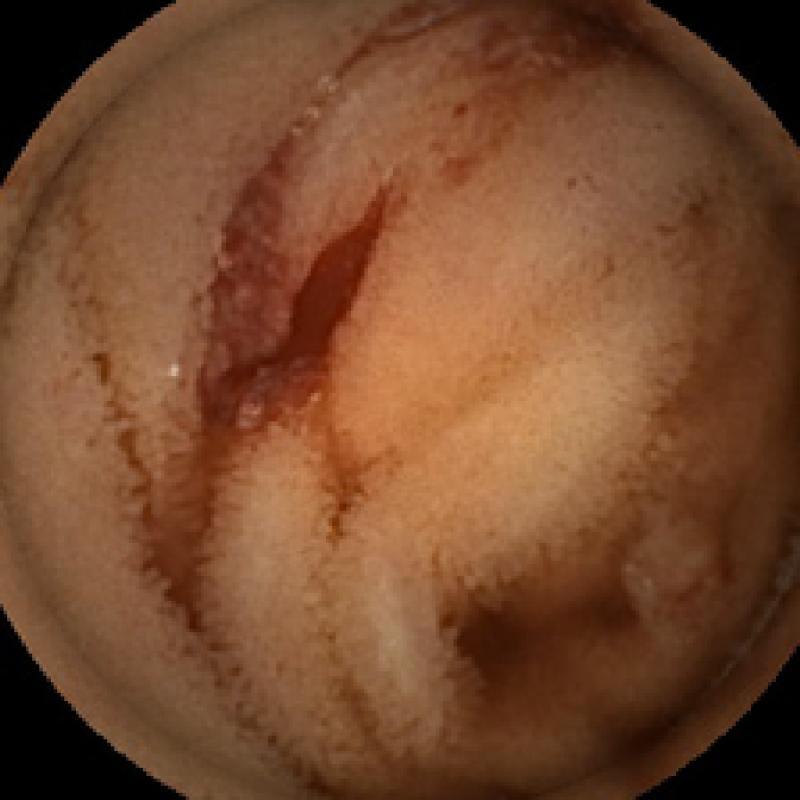bleeding: (232, 143, 389, 428)
